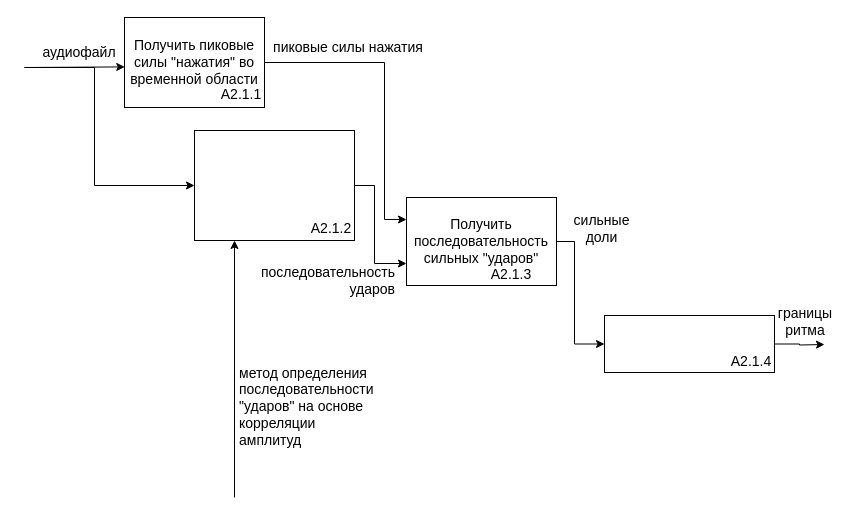
Some shapes in this 850 by 523 pixel diagram are drawn without their labels. Here are the shapes that lost their labels. From the top down, the box of each, then its label:
(194, 130, 354, 240): Получить последовательность "ударов" во временной области
(604, 314, 774, 372): Посчитать границы ритма
